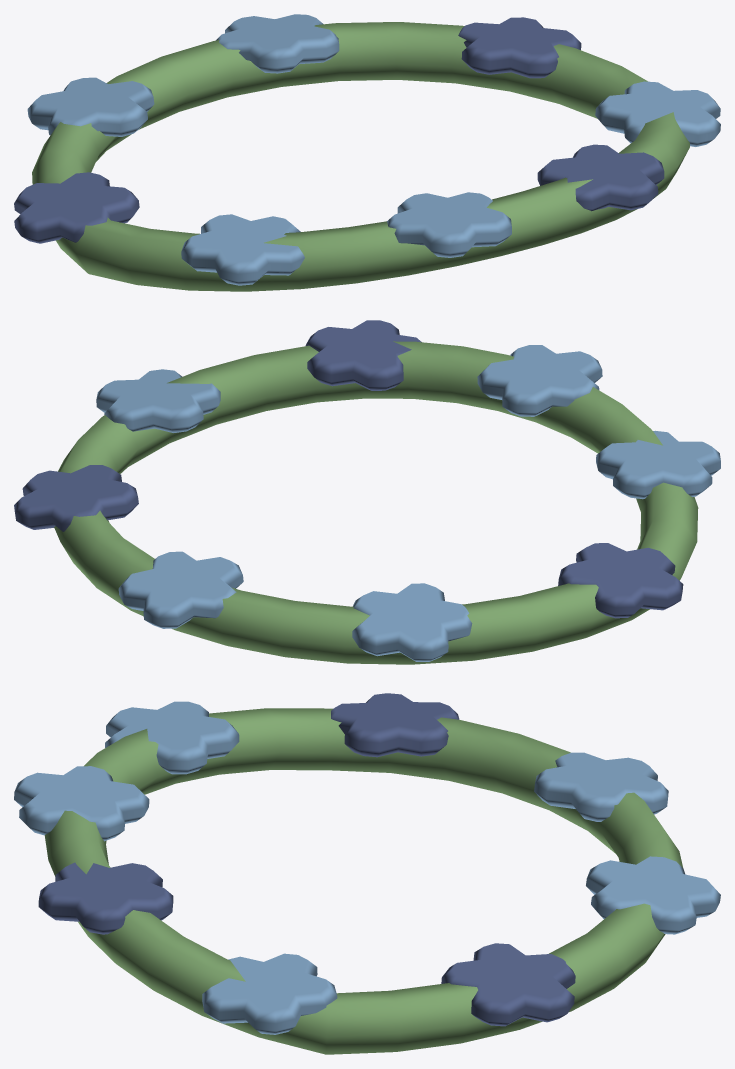
The model's file is blue_rose_crown.glb.
3 renders of one model, top to bottom at view 1: azimuth 30°, elevation 25°; view 2: azimuth 150°, elevation 25°; view 3: azimuth 270°, elevation 25°, orthographic. The views are drawn at different scales.
Visible parts, largest first — view 1: blue_rose_crown_Head; view 2: blue_rose_crown_Head; view 3: blue_rose_crown_Head.
Part boxes in pixels (x1,y1,x2,y2): blue_rose_crown_Head: [14, 14, 720, 291]; blue_rose_crown_Head: [14, 320, 720, 664]; blue_rose_crown_Head: [14, 693, 720, 1054].
Bounding box in the file's own units: 0.562 × 0.0754 × 0.5018.
